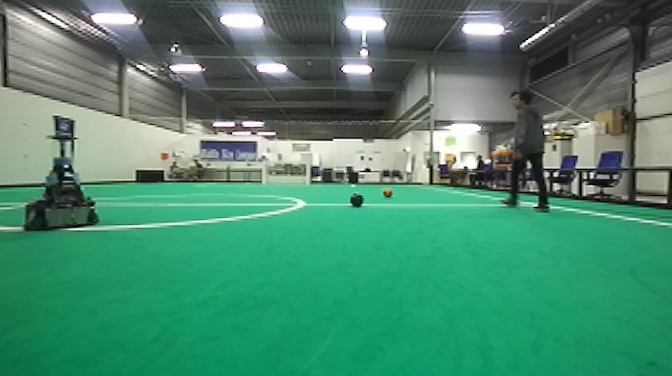ball: (347, 191, 366, 212), (381, 186, 395, 199)
goal: (261, 159, 310, 190)
goalpost: (305, 162, 311, 187), (262, 159, 266, 188)
human: (498, 85, 552, 215)
robot: (21, 111, 102, 236)
